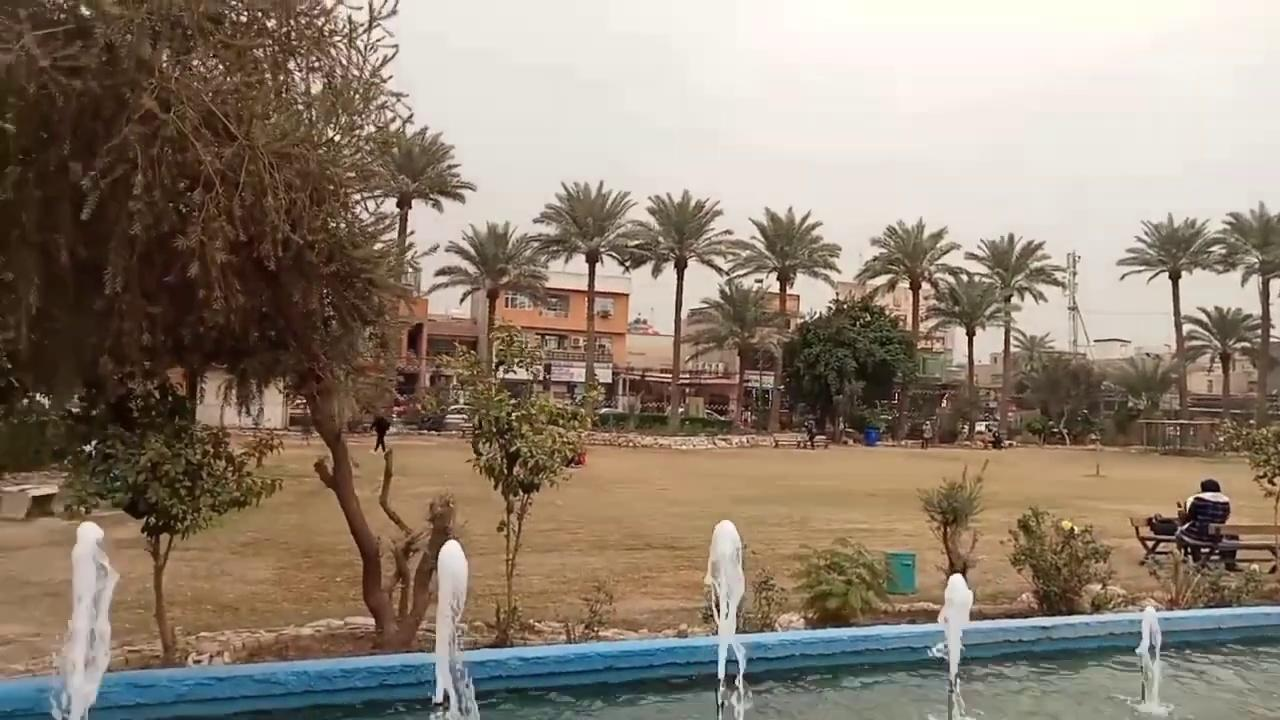car: (288, 397, 311, 416)
fountain: (5, 509, 1277, 718), (47, 519, 120, 718), (427, 536, 479, 716), (701, 518, 749, 685), (1126, 604, 1173, 715), (935, 571, 974, 691), (714, 677, 754, 718)
person: (1174, 478, 1239, 571), (369, 411, 390, 453), (920, 420, 933, 448), (804, 418, 816, 448)
tree: (0, 0, 461, 650), (55, 370, 285, 662), (345, 124, 476, 426), (457, 377, 589, 646), (622, 188, 733, 431), (530, 178, 641, 420), (723, 204, 841, 430), (854, 215, 960, 441), (1115, 211, 1222, 422), (963, 231, 1061, 439), (426, 219, 551, 381), (783, 290, 913, 442), (1208, 199, 1279, 428), (921, 265, 1007, 441), (686, 278, 779, 430), (723, 204, 842, 315), (999, 503, 1115, 615), (1215, 413, 1279, 573), (1180, 303, 1263, 425), (915, 457, 989, 588), (789, 534, 891, 627), (784, 315, 860, 439), (1022, 353, 1104, 443), (1105, 351, 1179, 416), (1050, 249, 1085, 358), (1008, 326, 1055, 377)
